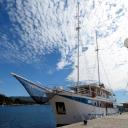cruises: (46, 79, 121, 128)
